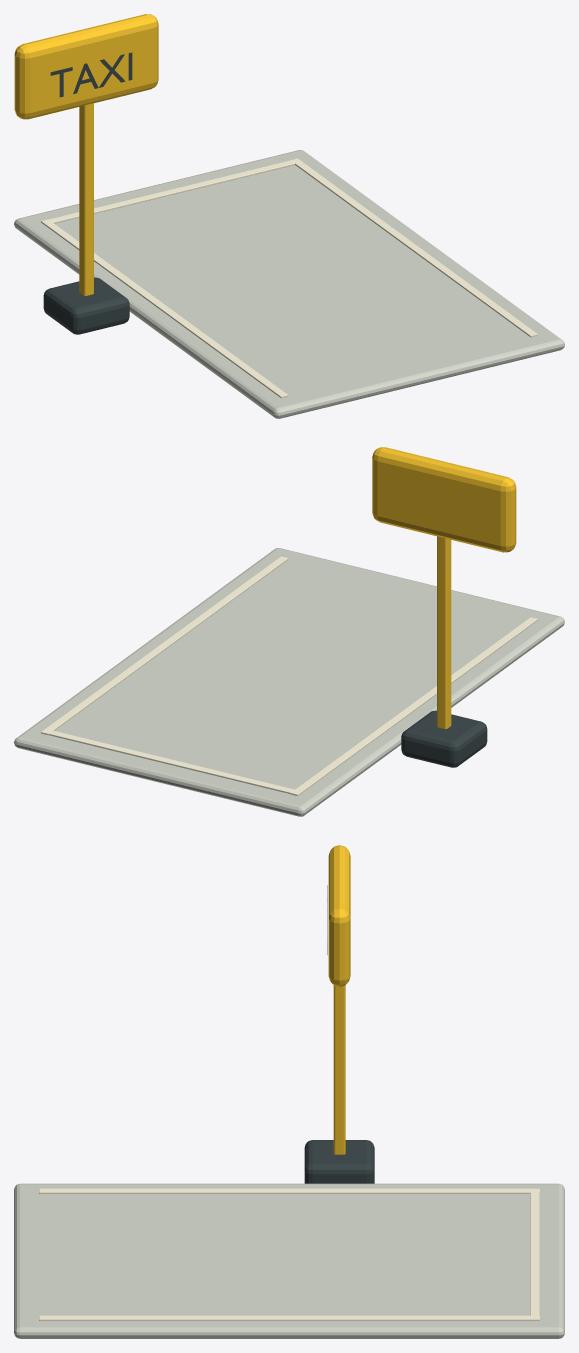
Rendered from taxi-stand.glb.
3 views of the same model, one above another, from view 1: azimuth 30°, elevation 25°; view 2: azimuth 150°, elevation 25°; view 3: azimuth 270°, elevation 25° (orthographic). The views are drawn at different scales.
Visible parts, largest first — view 1: taxi-stand; view 2: taxi-stand; view 3: taxi-stand.
Part boxes in pixels (<box>): taxi-stand: <box>14,14,564,418</box>; taxi-stand: <box>14,447,564,816</box>; taxi-stand: <box>14,845,564,1338</box>.
Bounding box in the file's own units: 4.75 × 3.33 × 5.5.
